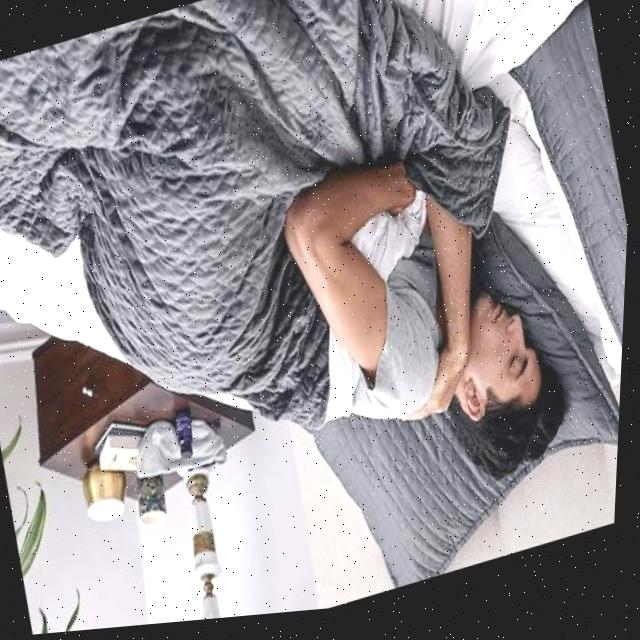sleeping-person: (0, 0, 601, 629)
